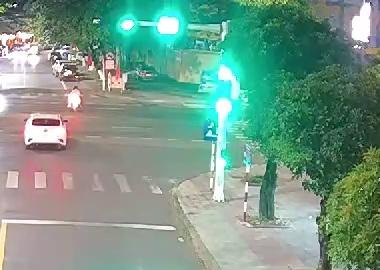green_light: (210, 90, 236, 122), (155, 12, 183, 40), (116, 13, 137, 38)
stop_line: (3, 219, 175, 230)
